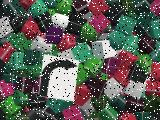Right: (39, 54, 79, 102)
